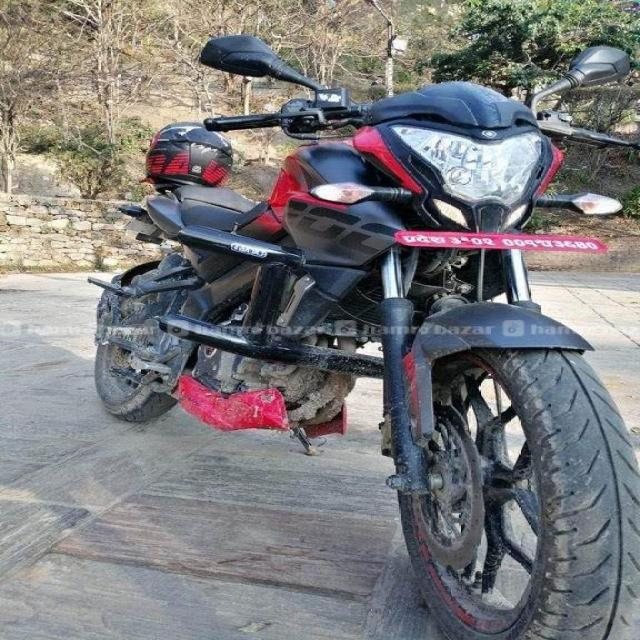License-plate: (391, 232, 620, 255)
